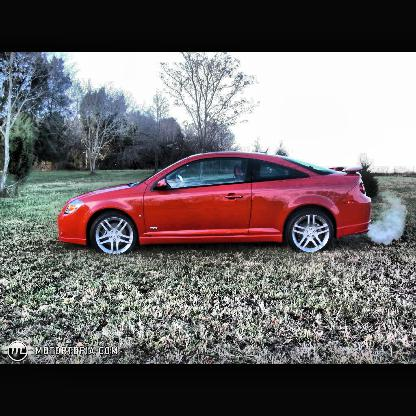Chevrolet Cobalt SS 2010: (59, 152, 372, 255)
